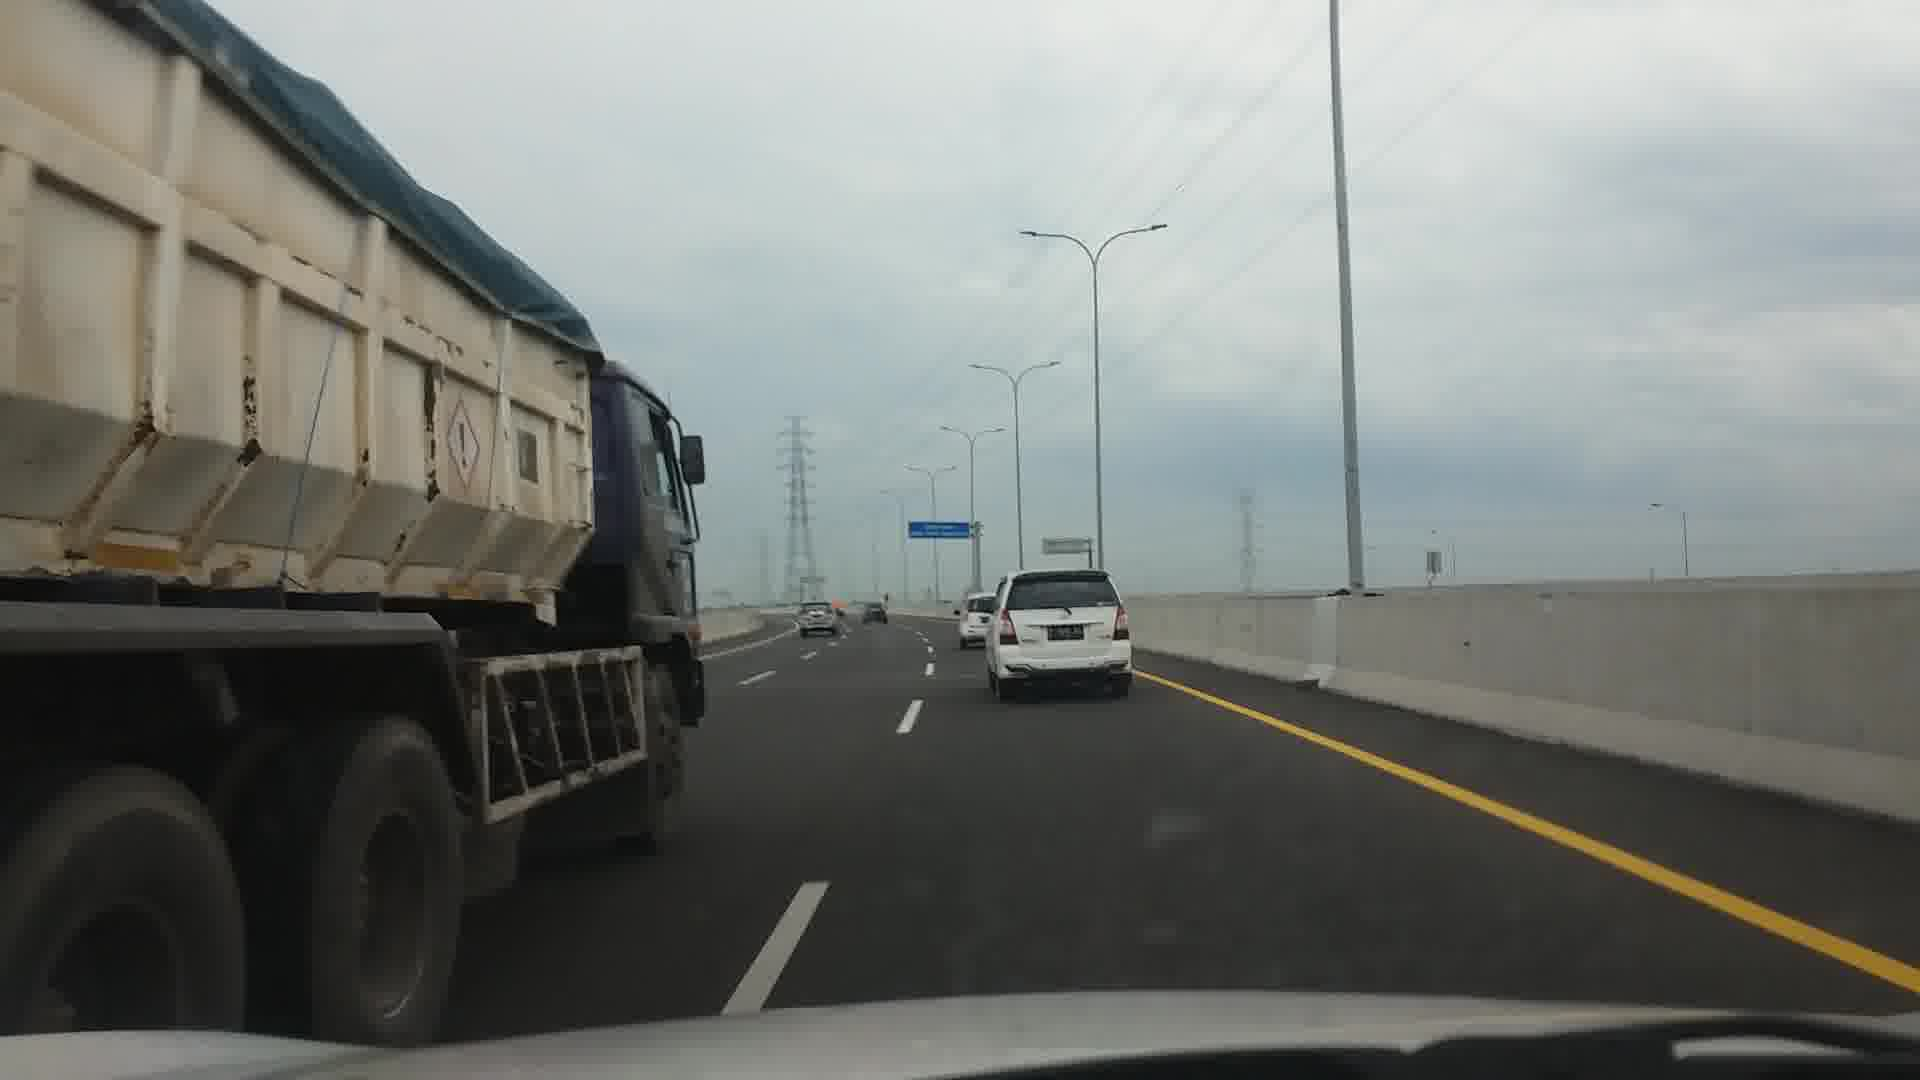plate_positive: (1048, 625, 1083, 640)
